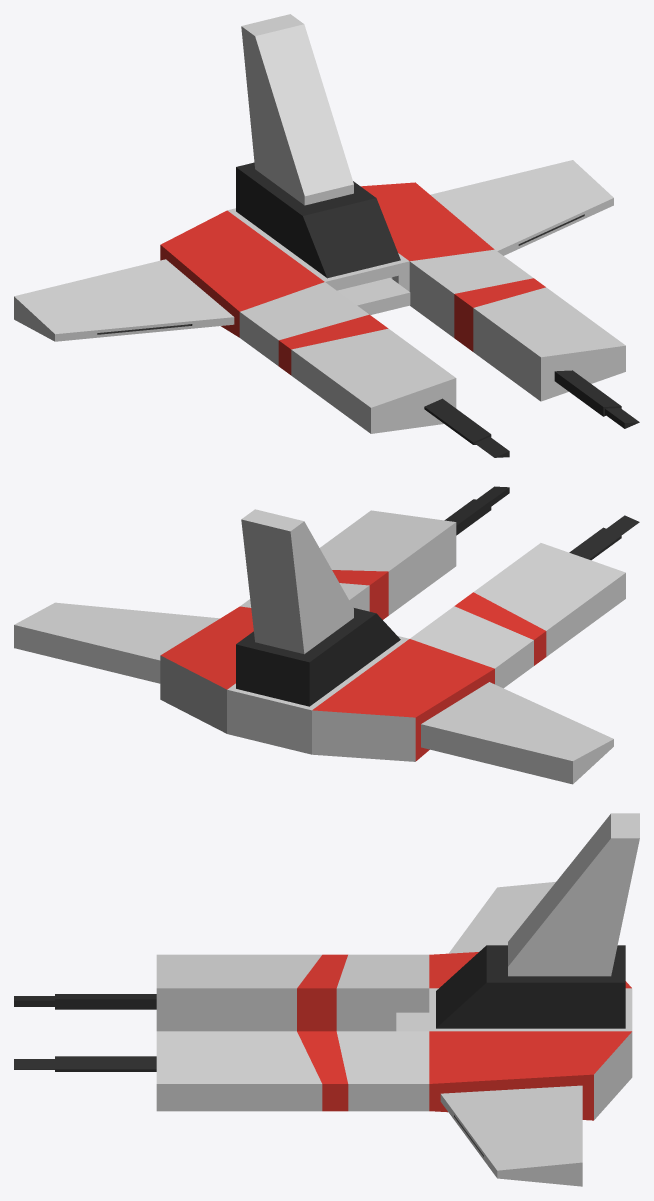
File: spaceship.fbx
3 renders of one model, top to bottom at view 1: azimuth 30°, elevation 25°; view 2: azimuth 150°, elevation 25°; view 3: azimuth 270°, elevation 25°, orthographic. The views are drawn at different scales.
Visible parts, largest first — view 1: Spaceship1; view 2: Spaceship1; view 3: Spaceship1.
Boxes of the visible parts, bbox=[...] form: Spaceship1: bbox=[14, 14, 639, 457]; Spaceship1: bbox=[14, 486, 639, 784]; Spaceship1: bbox=[14, 813, 639, 1186].
Bounding box in the file's own units: 1320 × 500 × 1232.
